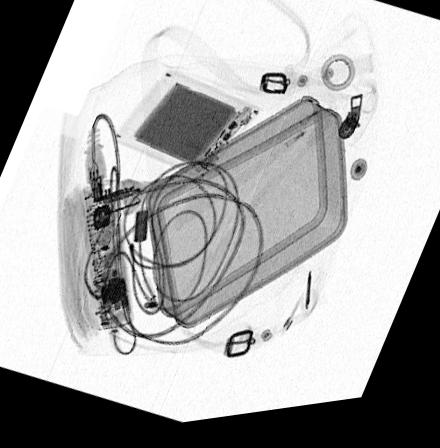Powerbank: (113, 73, 263, 185)
